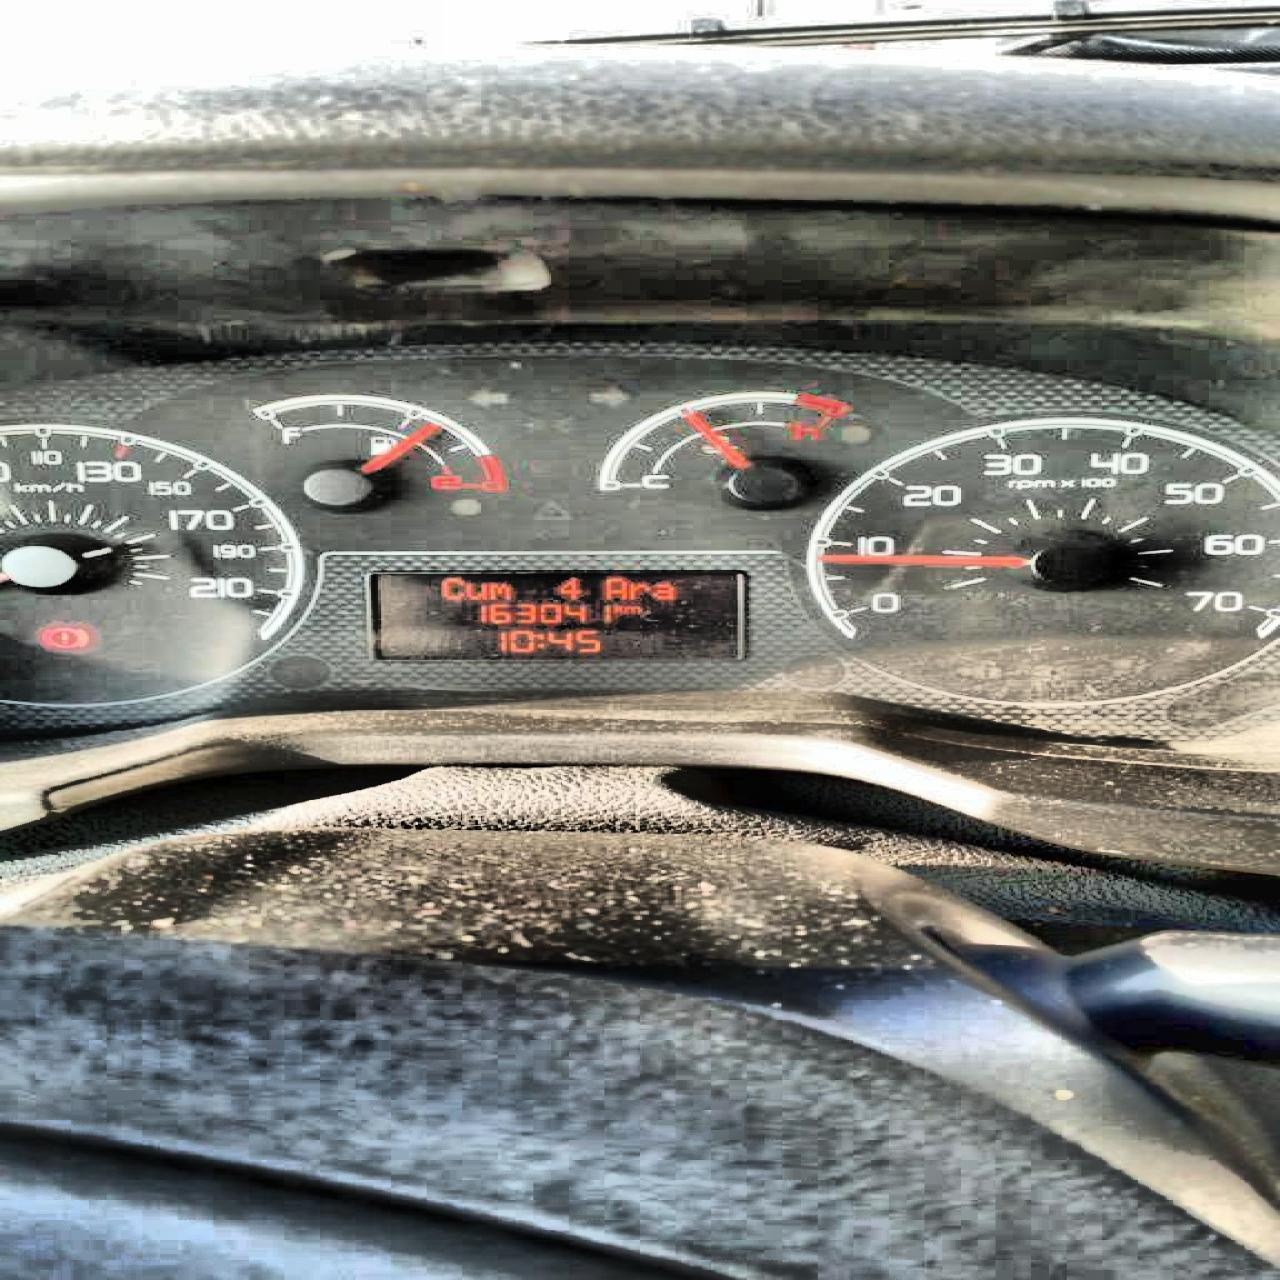0: (506, 628, 533, 653), (536, 601, 560, 624)
1: (489, 628, 508, 653), (595, 602, 608, 622), (474, 601, 484, 624)
3: (513, 601, 536, 624)
4: (553, 576, 583, 600), (545, 629, 573, 651), (560, 602, 587, 622)
5: (573, 627, 600, 653)
6: (486, 602, 511, 624)
X: (600, 576, 627, 600), (437, 576, 464, 600), (485, 581, 511, 600), (652, 581, 675, 600), (627, 581, 649, 600), (464, 580, 484, 600), (533, 632, 545, 648), (622, 604, 640, 614), (608, 601, 622, 614)
odometer: (360, 567, 747, 663)
